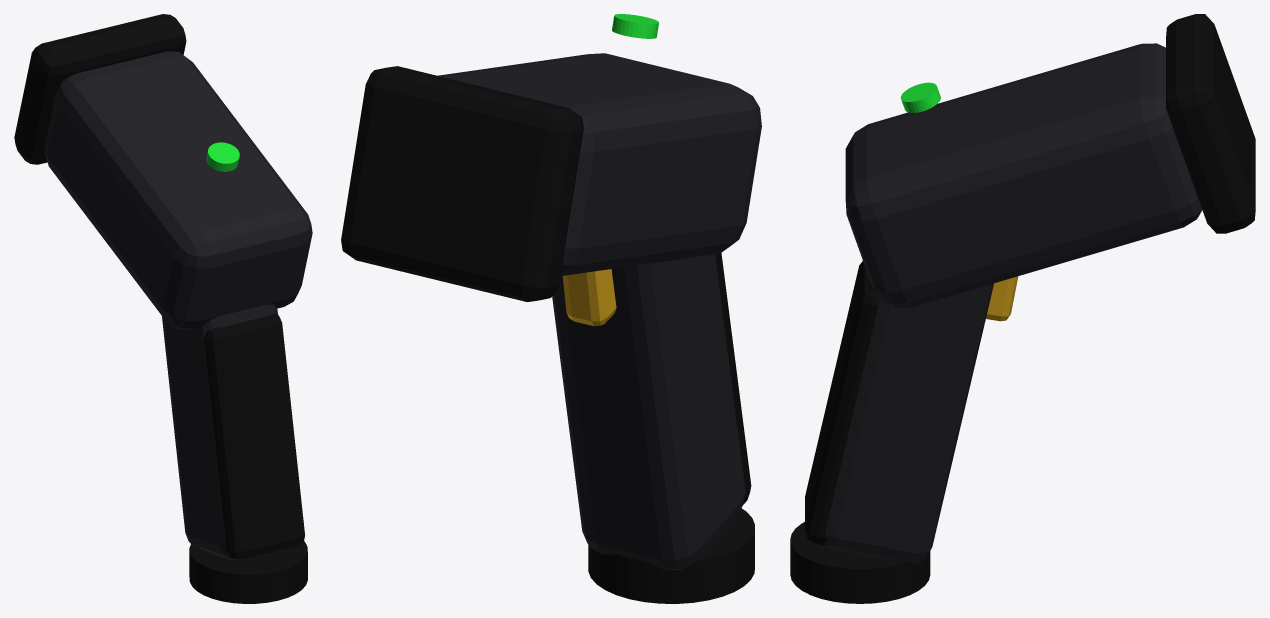
File: Barcode_Scanner.obj
3 views of the same model, side by side, from view 1: azimuth 30°, elevation 25°; view 2: azimuth 150°, elevation 25°; view 3: azimuth 270°, elevation 25° (orthographic). The views are drawn at different scales.
Parts seen in each view (by area): view 1: Scanner_Head, Scanner_RubberGrip, Scanner_Handle, Scanner_Bumper, Scanner_BaseRing, Scanner_LED; view 2: Scanner_Handle, Scanner_Bumper, Scanner_Head, Scanner_BaseRing, Scanner_Trigger, Scanner_RubberGrip, Scanner_LED; view 3: Scanner_Head, Scanner_Handle, Scanner_Bumper, Scanner_RubberGrip, Scanner_BaseRing, Scanner_Trigger, Scanner_LED.
Boxes of the visible parts, <box> form: Scanner_Head: <box>44,51,312,329</box>; Scanner_RubberGrip: <box>204,313,304,559</box>; Scanner_Handle: <box>162,304,277,560</box>; Scanner_Bumper: <box>14,14,186,164</box>; Scanner_BaseRing: <box>189,541,307,603</box>; Scanner_LED: <box>206,142,239,171</box>; Scanner_Handle: <box>552,254,745,570</box>; Scanner_Bumper: <box>341,66,583,301</box>; Scanner_Head: <box>438,53,761,275</box>; Scanner_BaseRing: <box>588,508,754,603</box>; Scanner_Trigger: <box>562,269,616,326</box>; Scanner_RubberGrip: <box>715,253,751,504</box>; Scanner_LED: <box>612,14,658,38</box>; Scanner_Head: <box>845,43,1202,308</box>; Scanner_Handle: <box>822,280,993,563</box>; Scanner_Bumper: <box>1166,14,1255,233</box>; Scanner_RubberGrip: <box>805,261,877,545</box>; Scanner_BaseRing: <box>790,522,930,603</box>; Scanner_Trigger: <box>986,276,1018,321</box>; Scanner_LED: <box>900,82,940,112</box>.
Bounding box in the file's own units: 0.062 × 0.1817 × 0.1461.
